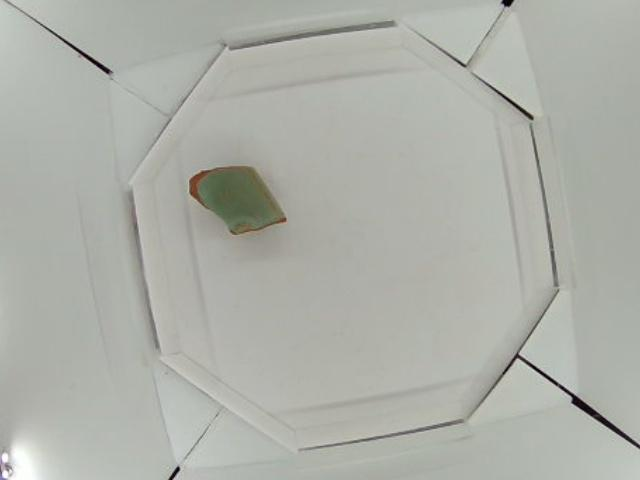China: (186, 164, 288, 234)
